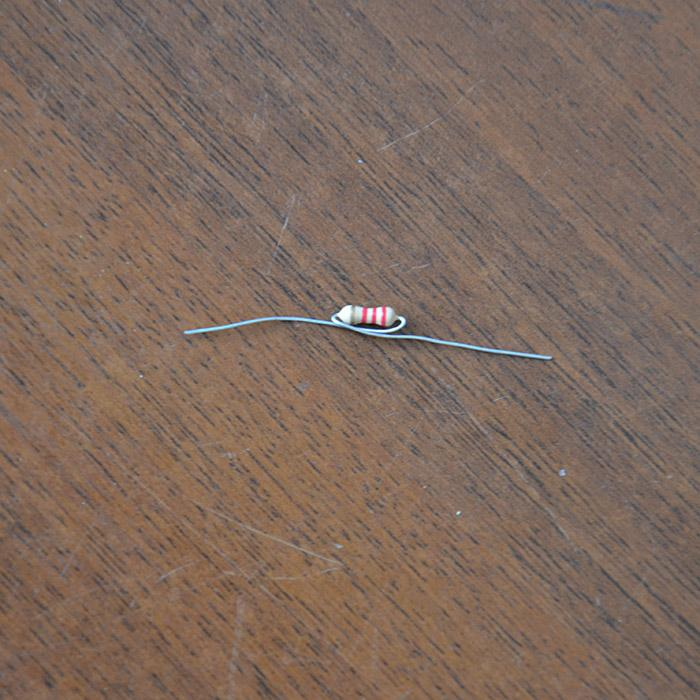resistor: (336, 304, 398, 326)
